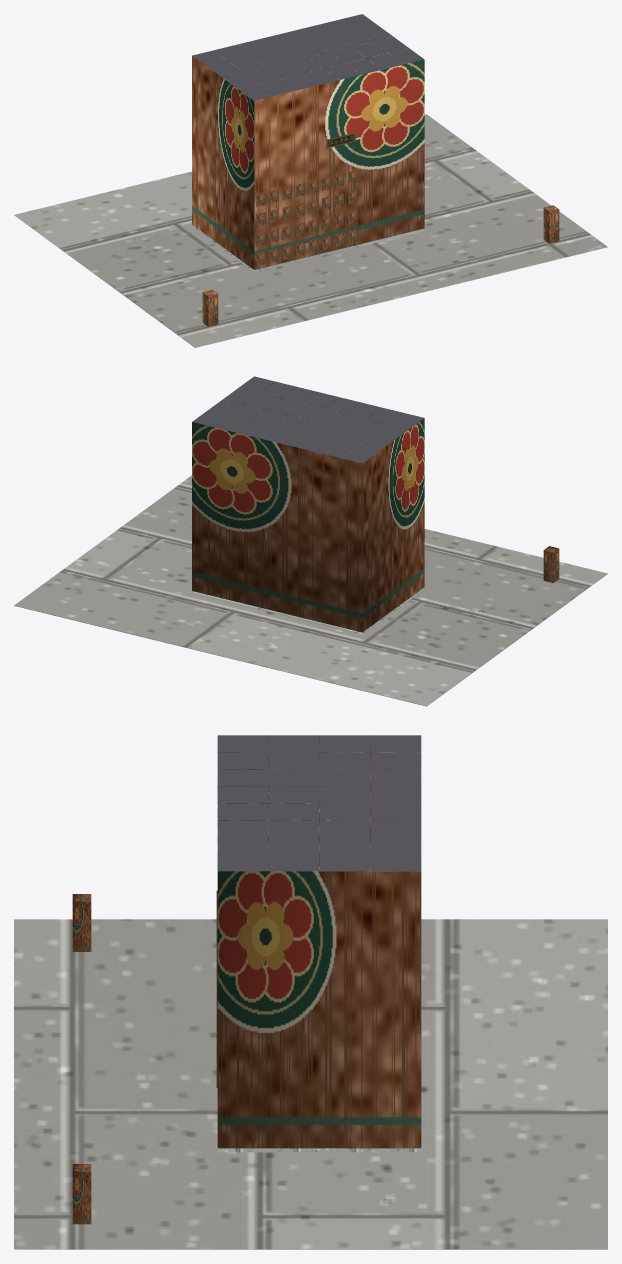
3 views of the same model, one above another, from view 1: azimuth 30°, elevation 25°; view 2: azimuth 150°, elevation 25°; view 3: azimuth 270°, elevation 25° (orthographic). The views are drawn at different scales.
Visible parts, largest first — view 1: 11680_01_06026_031_01_L2__base, 11680_01_06026_031_02_L2__body, 11680_01_06026_031_03_L2__roof, 11680_01_06026_031_05_L2__openings, 11680_01_06026_031_06_L2__green; view 2: 11680_01_06026_031_01_L2__base, 11680_01_06026_031_02_L2__body, 11680_01_06026_031_03_L2__roof, 11680_01_06026_031_06_L2__green; view 3: 11680_01_06026_031_01_L2__base, 11680_01_06026_031_02_L2__body, 11680_01_06026_031_03_L2__roof, 11680_01_06026_031_06_L2__green.
Boxes of the visible parts, <box> form: 11680_01_06026_031_01_L2__base: <box>14,114,607,347</box>; 11680_01_06026_031_02_L2__body: <box>192,20,424,269</box>; 11680_01_06026_031_03_L2__roof: <box>192,14,423,100</box>; 11680_01_06026_031_05_L2__openings: <box>256,170,357,265</box>; 11680_01_06026_031_06_L2__green: <box>202,205,559,326</box>; 11680_01_06026_031_01_L2__base: <box>14,475,607,706</box>; 11680_01_06026_031_02_L2__body: <box>192,382,424,632</box>; 11680_01_06026_031_03_L2__roof: <box>192,376,423,463</box>; 11680_01_06026_031_06_L2__green: <box>543,546,559,582</box>; 11680_01_06026_031_01_L2__base: <box>14,919,607,1249</box>; 11680_01_06026_031_02_L2__body: <box>217,735,421,1148</box>; 11680_01_06026_031_03_L2__roof: <box>218,735,420,871</box>; 11680_01_06026_031_06_L2__green: <box>72,894,91,1224</box>.
Bounding box in the file's own units: 92 × 36.62 × 70.
5 materials, 5 textured.
